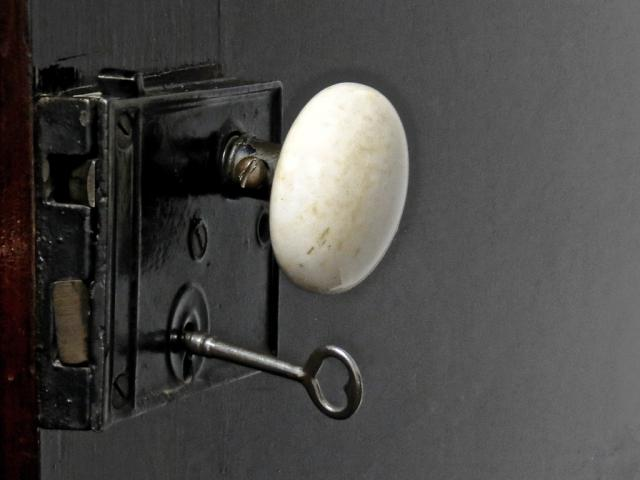Door-handle: (31, 60, 410, 430)
